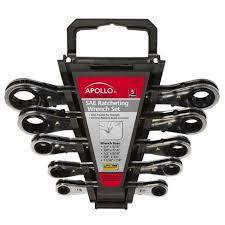wrench: (2, 76, 220, 111), (16, 105, 207, 134), (28, 134, 191, 158), (45, 155, 182, 179), (53, 177, 168, 197)
